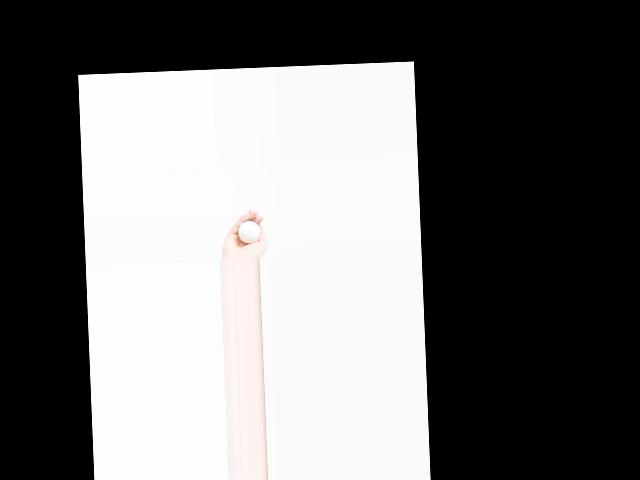egg: (237, 220, 260, 243)
